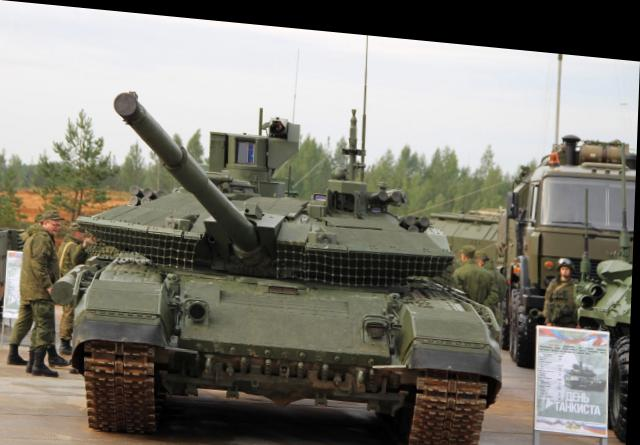other: (29, 211, 66, 372), (456, 238, 486, 296), (553, 249, 580, 289)
tank: (82, 112, 499, 444)
